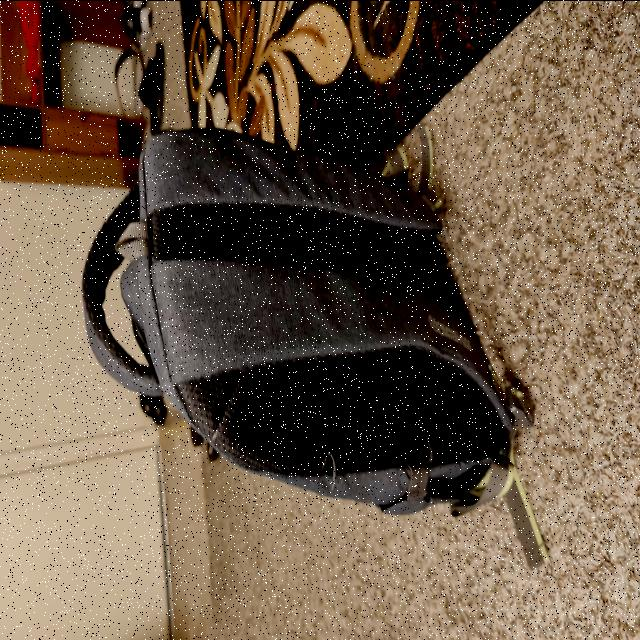bag: (92, 88, 506, 416), (167, 168, 428, 402), (504, 74, 505, 90)
